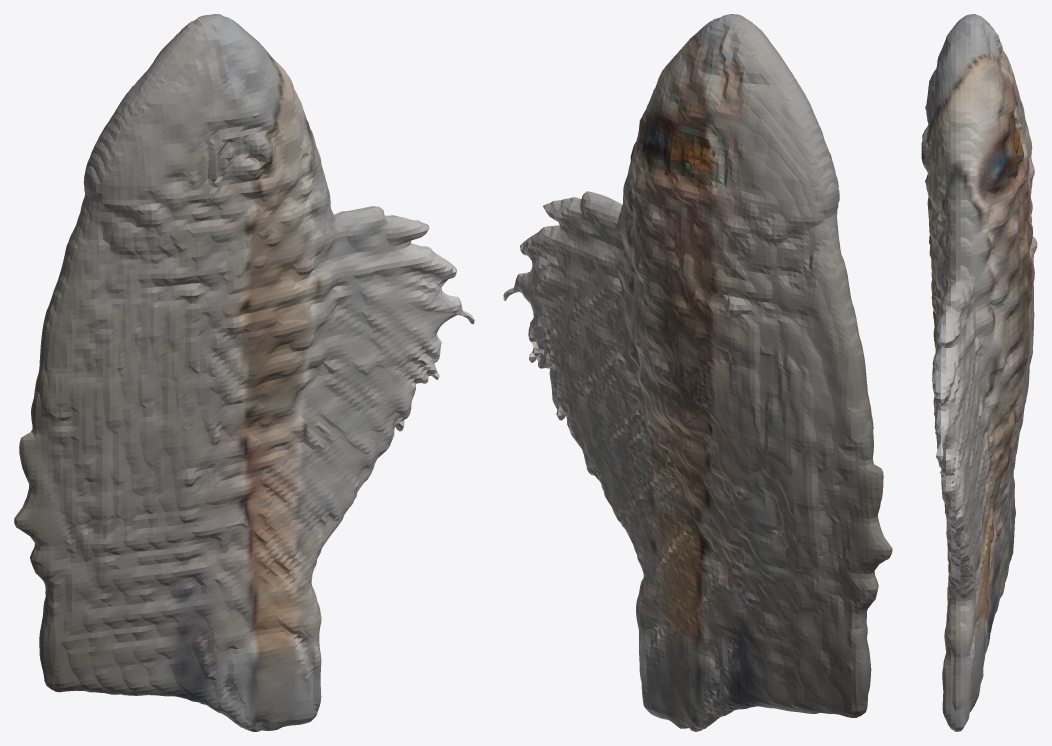
The model's file is apistogramma-cacatuoides.glb.
3 views of the same model, side by side, from view 1: azimuth 30°, elevation 25°; view 2: azimuth 150°, elevation 25°; view 3: azimuth 270°, elevation 25° (orthographic). The views are drawn at different scales.
Parts seen in each view (by area): view 1: world; view 2: world; view 3: world.
Part boxes in pixels (x1,y1,x2,y2): world: (14,14,474,731); world: (503,14,892,731); world: (921,14,1037,731).
Size of the model in its own units: 0.6294 by 1.03 by 0.1605.
